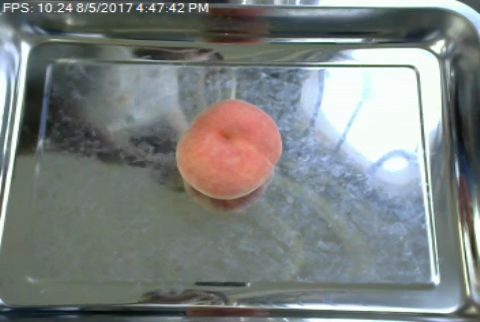Peach: (178, 98, 280, 200)
